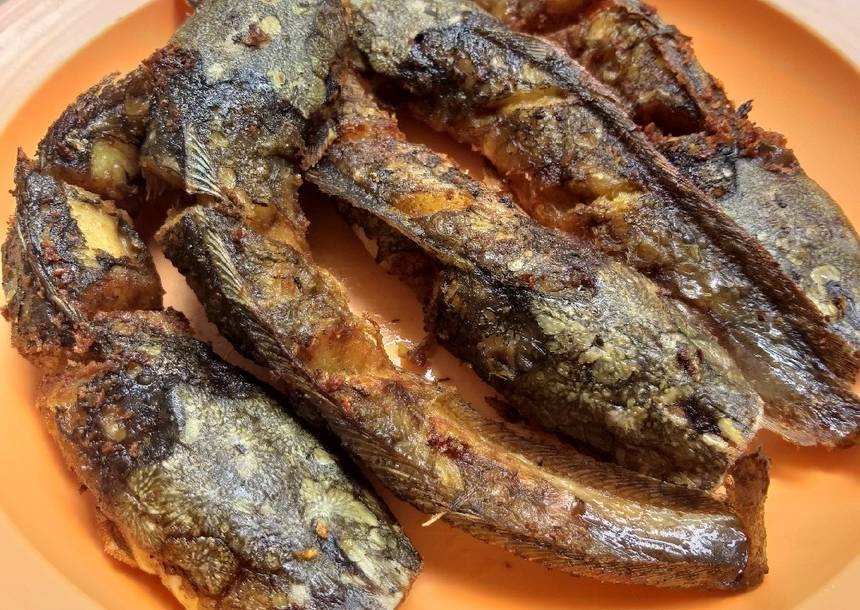pecel_lele: (151, 1, 784, 579), (307, 50, 777, 493)
